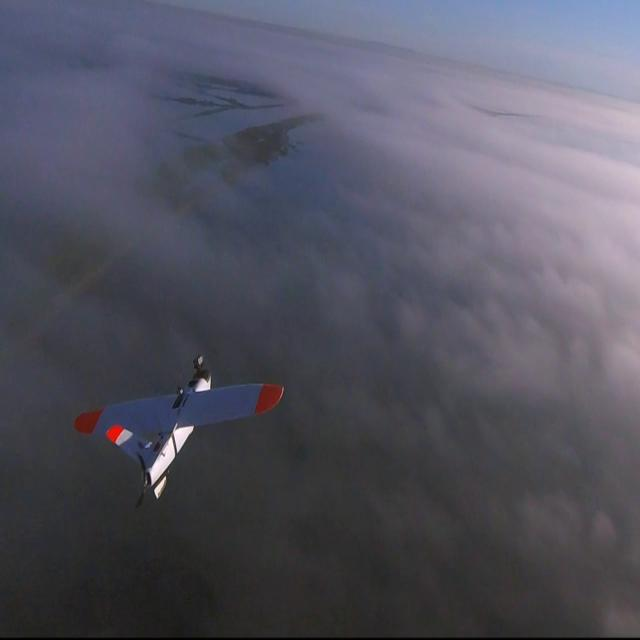iha: (75, 356, 289, 505)
